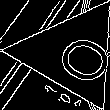O_NW: (34, 21, 108, 85)
